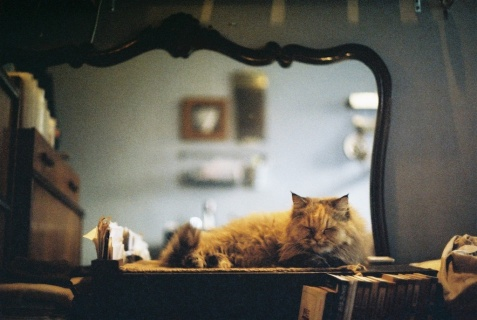Cat: (160, 190, 374, 266)
